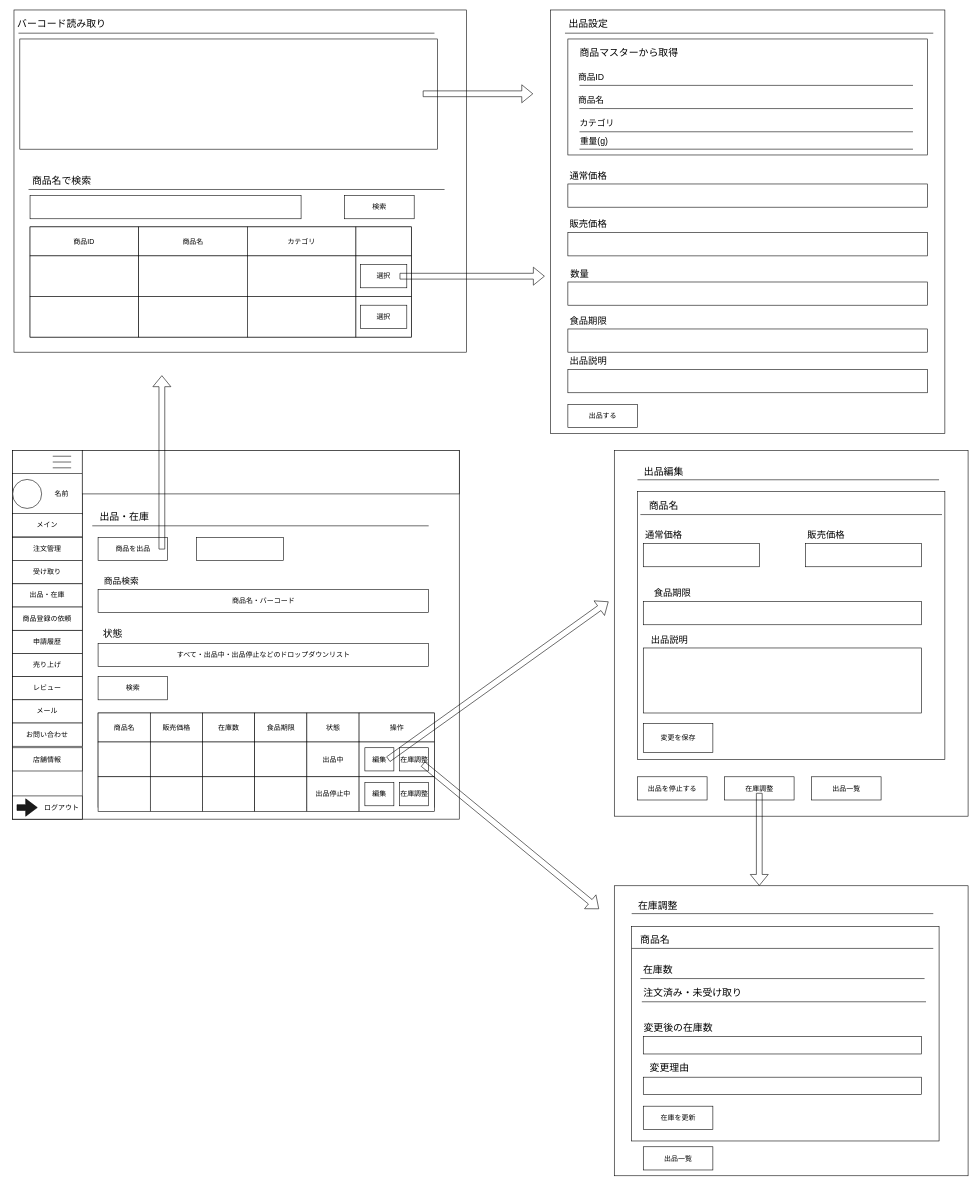
The diagram is 978 pixels wide and 1186 high, and some of its shapes have lost their labels. The centre of each missing label's shape, as x and y in pixels:
"カメラでバーコードを読み取る" goes at point (228, 93).
"商品マスター登録を依頼" goes at point (240, 549).
